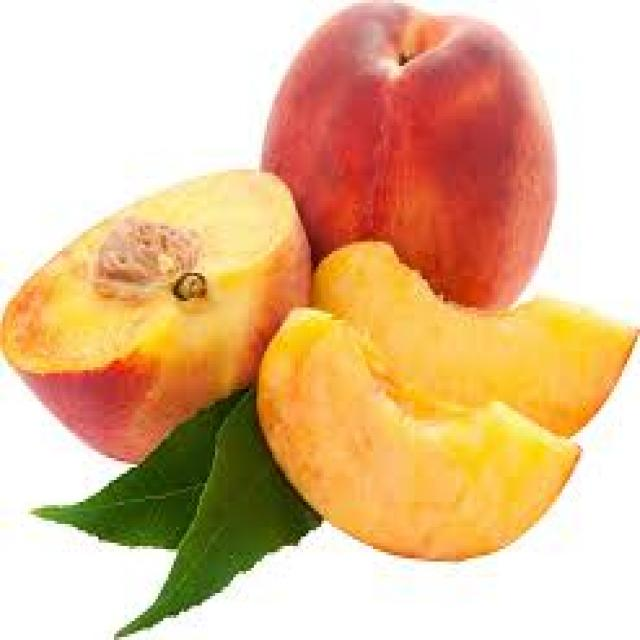organic waste: (262, 0, 557, 320), (0, 169, 308, 464), (254, 301, 578, 562), (303, 242, 638, 439), (109, 386, 321, 634), (29, 386, 202, 552)
